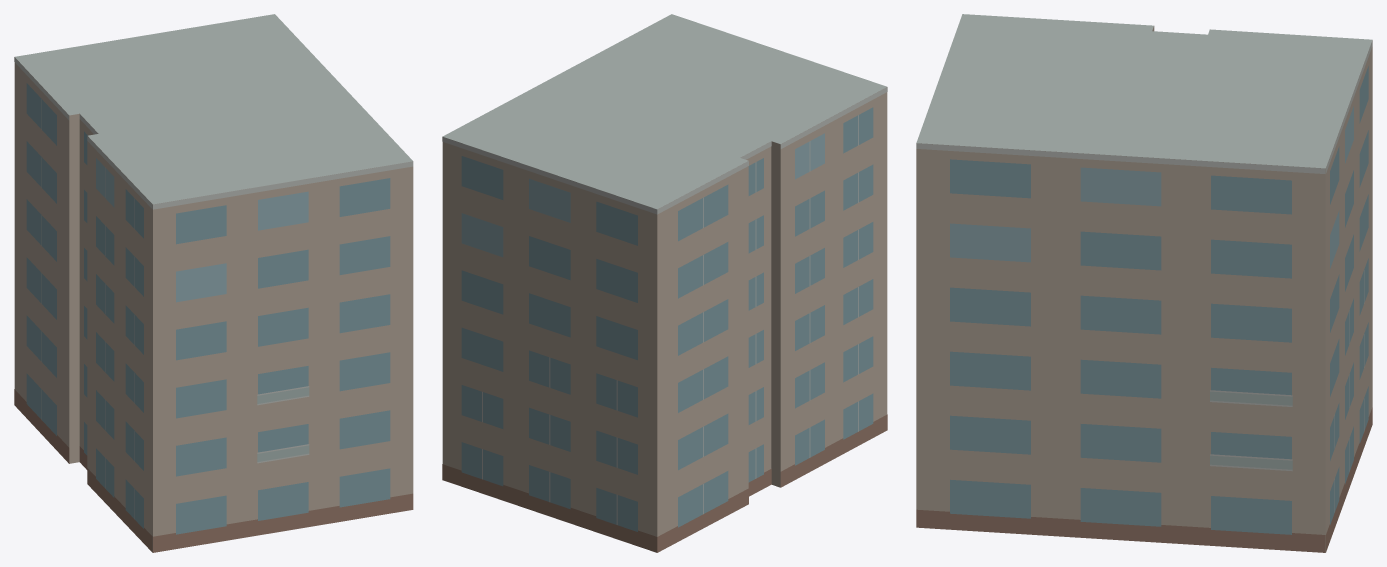
The model's file is survey-upis-33039866.glb.
The picture shows the model from 3 angles, left to right: view 1: azimuth 30°, elevation 25°; view 2: azimuth 150°, elevation 25°; view 3: azimuth 270°, elevation 25°; orthographic projection. The views are drawn at different scales.
Parts seen in each view (by area): view 1: survey-upis-33039866.tmp; view 2: survey-upis-33039866.tmp; view 3: survey-upis-33039866.tmp.
Part boxes in pixels (x1,y1,x2,y2): survey-upis-33039866.tmp: (14, 14, 413, 552); survey-upis-33039866.tmp: (442, 14, 887, 552); survey-upis-33039866.tmp: (916, 14, 1372, 552).
Bounding box in the file's own units: 14.05 × 16.3 × 17.54.
